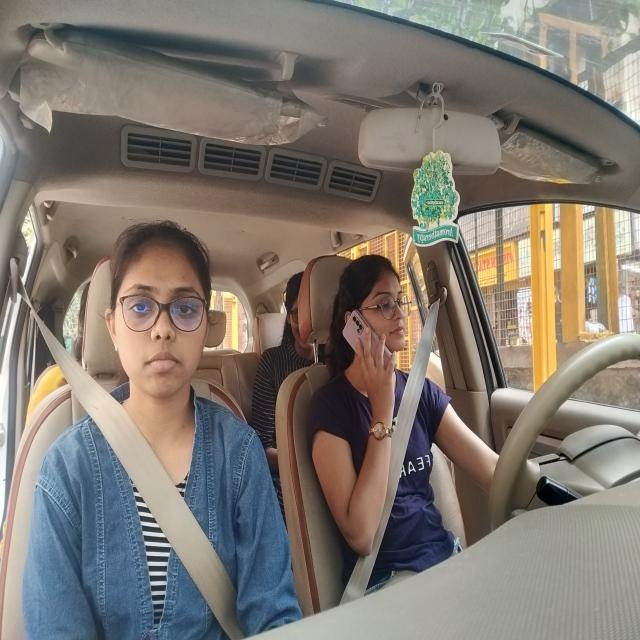mobile: (336, 305, 400, 379)
person: (108, 229, 212, 404), (331, 255, 417, 363), (285, 260, 314, 356)
